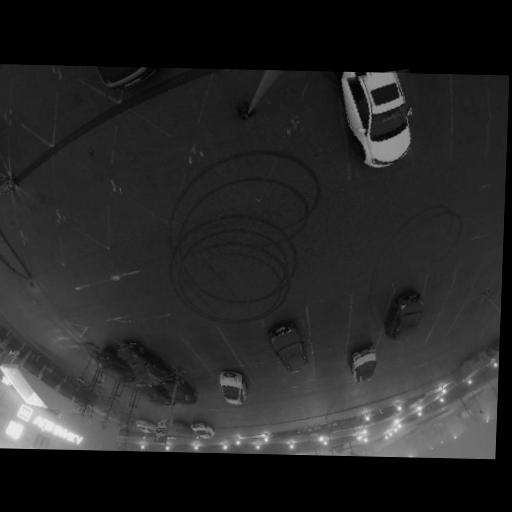busy: (342, 69, 423, 177), (263, 319, 314, 379), (382, 288, 429, 347), (115, 339, 173, 386), (212, 368, 254, 408), (345, 344, 383, 385), (95, 343, 135, 380), (190, 418, 216, 440), (172, 420, 191, 435)
free: (452, 79, 495, 126), (419, 271, 454, 314), (412, 77, 448, 118), (309, 311, 348, 347), (352, 299, 385, 334), (446, 265, 477, 302), (158, 336, 194, 366), (232, 326, 266, 356), (249, 364, 281, 391), (197, 334, 228, 361), (317, 353, 347, 378), (197, 371, 217, 393)
